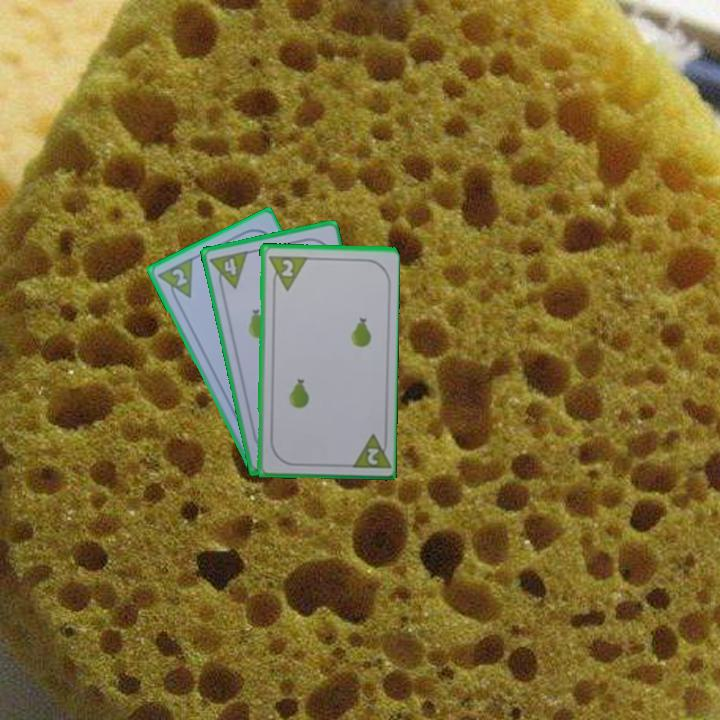2p: (153, 254, 195, 306), (346, 429, 391, 471), (264, 252, 308, 293)
4p: (206, 247, 251, 294)
